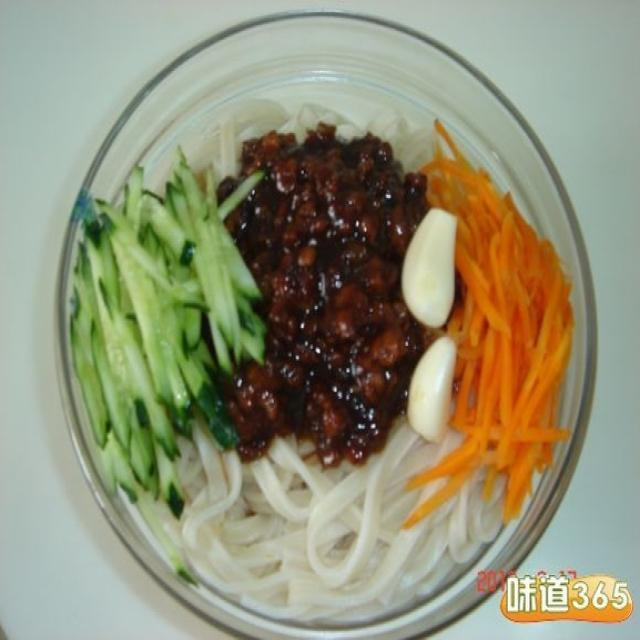面条主食: (63, 48, 589, 626)
